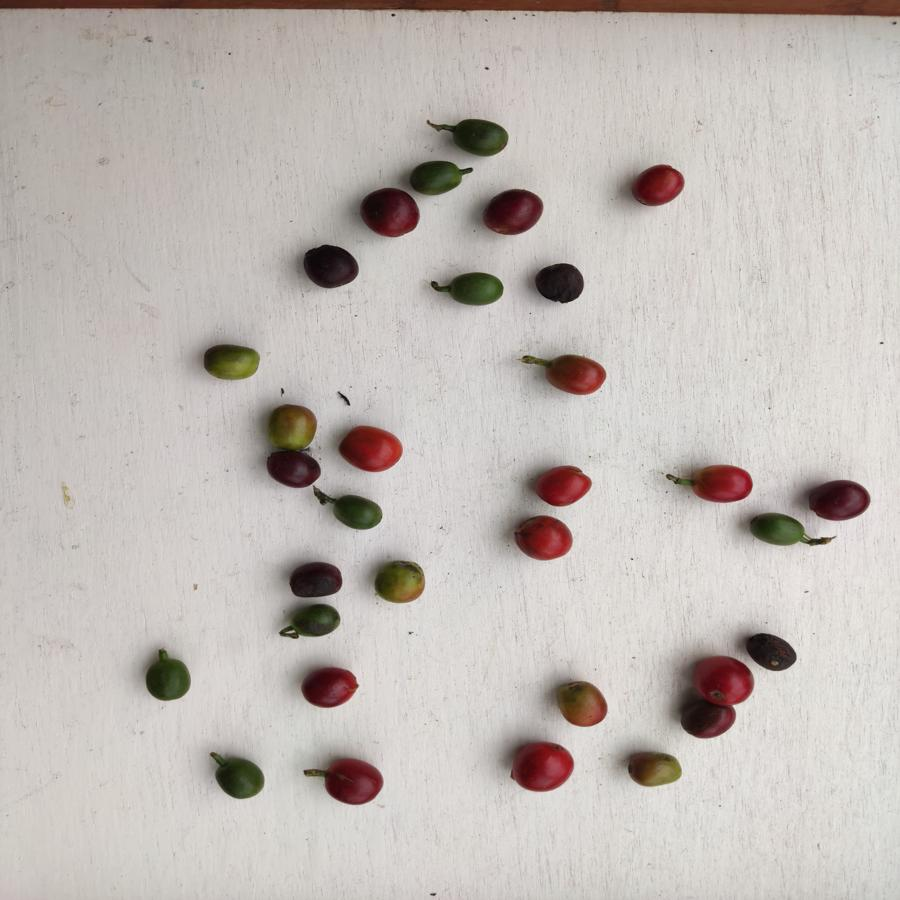Inmaduro: (450, 116, 510, 157), (142, 656, 192, 705), (213, 756, 266, 801), (328, 491, 384, 531), (408, 157, 463, 196), (748, 511, 803, 549), (448, 271, 503, 308), (289, 603, 341, 641)
Maduro: (505, 739, 576, 796), (337, 423, 410, 476), (508, 513, 576, 563), (691, 654, 754, 703), (533, 460, 596, 507), (692, 463, 755, 509), (546, 354, 610, 398), (631, 163, 689, 209)
Pinton: (554, 681, 611, 728), (267, 403, 317, 450), (199, 343, 262, 380), (373, 560, 427, 603), (628, 749, 682, 789)
Sobremaduro: (481, 187, 548, 242), (300, 241, 364, 296), (808, 475, 874, 526), (319, 757, 386, 807), (359, 187, 419, 240), (302, 664, 363, 712), (744, 631, 800, 676), (265, 448, 323, 491), (286, 561, 343, 599), (535, 260, 583, 305), (682, 704, 736, 742)
